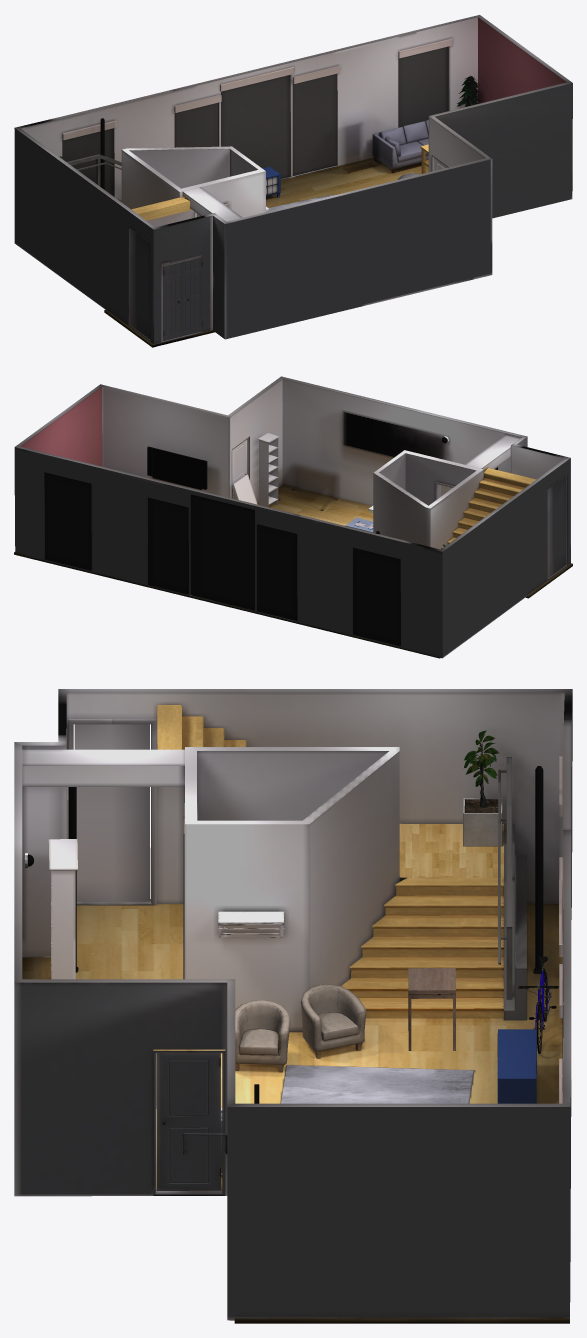
Rendered from google_pick_coke_can_1_v4_alt_background.glb.
The picture shows the model from 3 angles, top to bottom: view 1: azimuth 30°, elevation 25°; view 2: azimuth 150°, elevation 25°; view 3: azimuth 270°, elevation 25°; orthographic projection. The views are drawn at different scales.
Visible parts, largest first — view 1: frl_apartment_wall_arch.001, frl_apartment_blinds, frl_apartment_floor, frl_apartment_sofa, frl_apartment_door_04, frl_apartment_door_05, frl_apartment_door_06, frl_apartment_stair, frl_apartment_indoor_plant_02; view 2: frl_apartment_wall_arch.001, frl_apartment_blinds, frl_apartment_floor, frl_apartment_stair, frl_apartment_tv_screen, frl_apartment_door_04, frl_apartment_wall_cabinet_01, frl_apartment_door_01, frl_apartment_table_03; view 3: frl_apartment_wall_arch.001, frl_apartment_stair, frl_apartment_floor, frl_apartment_door_04, frl_apartment_door_01, frl_apartment_rug_02, frl_apartment_chair_01, frl_apartment_wall_cabinet_02, frl_apartment_chair_01.999, frl_apartment_tvstand, frl_apartment_indoor_plant_01, frl_apartment_pipe (+6 smaller).
Part boxes in pixels (box(x1,y1,x2,y2)): frl_apartment_wall_arch.001: box(14, 15, 572, 344); frl_apartment_blinds: box(62, 38, 452, 196); frl_apartment_floor: box(104, 157, 428, 347); frl_apartment_sofa: box(372, 120, 428, 173); frl_apartment_door_04: box(130, 228, 150, 339); frl_apartment_door_05: box(163, 261, 182, 340); frl_apartment_door_06: box(182, 257, 202, 335); frl_apartment_stair: box(67, 154, 190, 220); frl_apartment_indoor_plant_02: box(457, 75, 480, 106); frl_apartment_wall_arch.001: box(14, 376, 570, 658); frl_apartment_blinds: box(44, 472, 400, 646); frl_apartment_floor: box(14, 484, 572, 658); frl_apartment_stair: box(447, 468, 536, 543); frl_apartment_tv_screen: box(147, 446, 207, 489); frl_apartment_door_04: box(547, 477, 565, 578); frl_apartment_wall_cabinet_01: box(258, 433, 279, 507); frl_apartment_door_01: box(232, 439, 247, 498); frl_apartment_table_03: box(232, 474, 257, 504); frl_apartment_wall_arch.001: box(14, 689, 572, 1320); frl_apartment_stair: box(157, 705, 526, 1020); frl_apartment_floor: box(22, 904, 569, 1323); frl_apartment_door_04: box(74, 724, 150, 901); frl_apartment_door_01: box(156, 1053, 221, 1190); frl_apartment_rug_02: box(280, 1065, 474, 1103); frl_apartment_chair_01: box(300, 984, 366, 1058); frl_apartment_wall_cabinet_02: box(48, 839, 77, 979); frl_apartment_chair_01.999: box(235, 1000, 290, 1072); frl_apartment_tvstand: box(497, 1029, 536, 1103); frl_apartment_indoor_plant_01: box(463, 730, 502, 846); frl_apartment_pipe: box(68, 766, 544, 973).
Size of the model in its own units: 12.93 by 3.21 by 7.26.
1 material, 1 textured.
